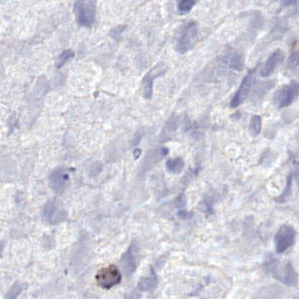Lymphocyte: (93, 262, 121, 292)
